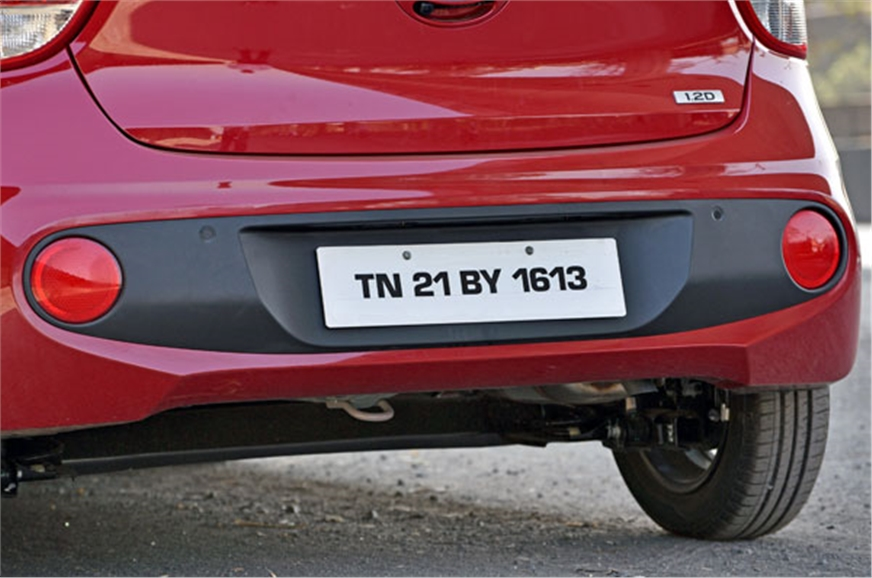T: (350, 271, 375, 304)
